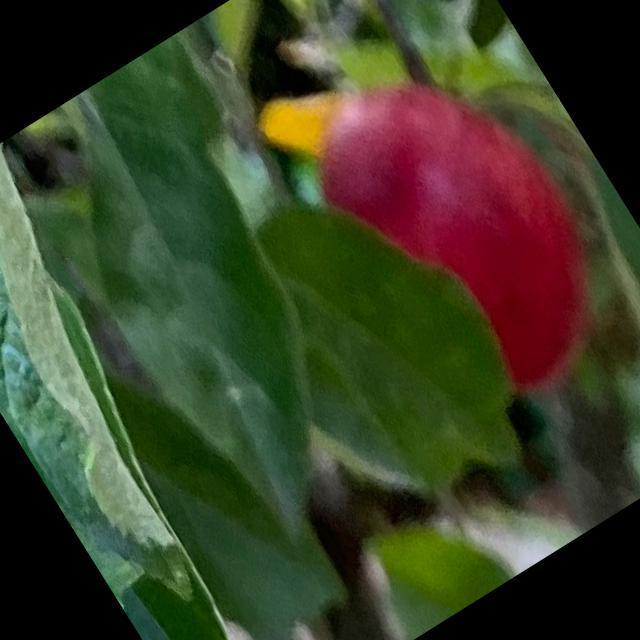Rotten Apple: (286, 30, 639, 428)
